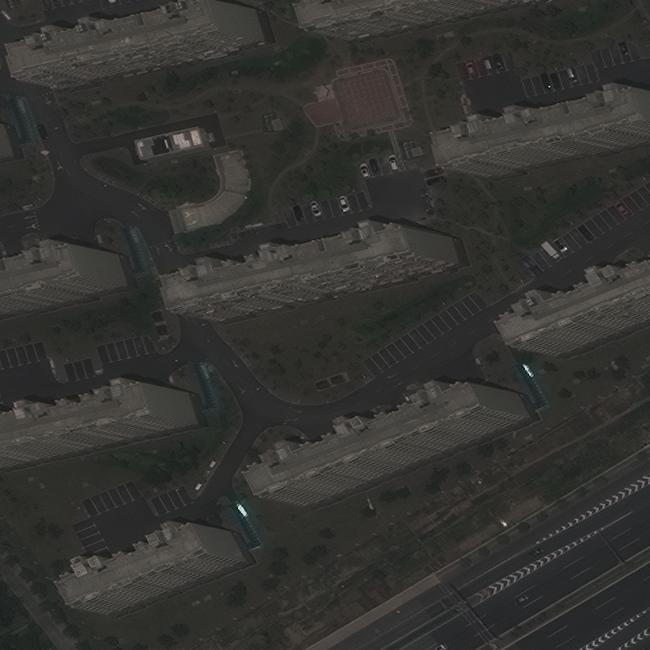parking lot: (362, 293, 483, 376), (531, 191, 644, 273), (283, 191, 368, 229), (521, 67, 598, 99), (83, 483, 141, 517), (97, 336, 156, 364), (73, 516, 108, 557), (461, 52, 510, 80), (587, 42, 637, 68), (148, 488, 194, 516), (357, 152, 400, 180), (7, 343, 48, 367), (62, 359, 94, 381)
